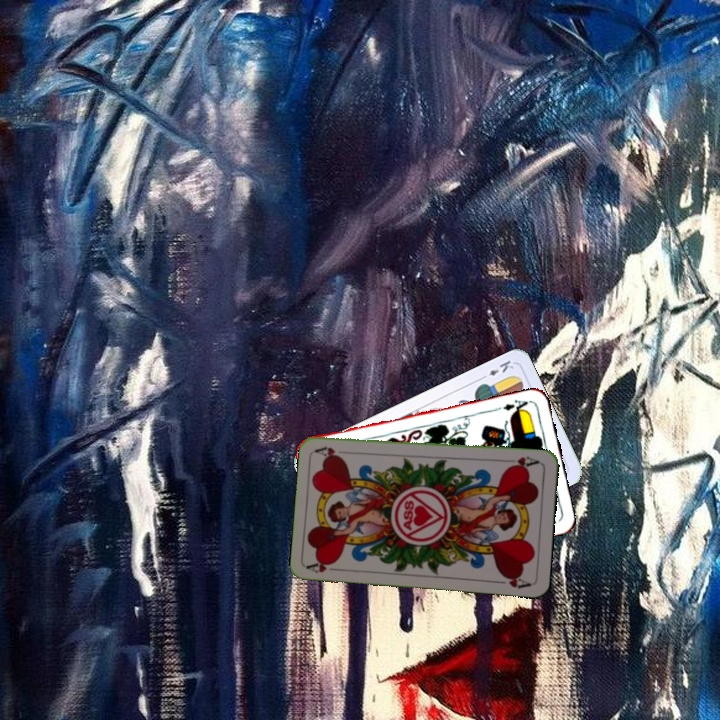EA: (499, 396, 533, 416)
EK: (477, 356, 516, 382)
HA: (304, 556, 345, 576), (502, 453, 542, 471)
